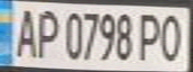0: (60, 7, 84, 61)
7: (78, 8, 100, 61)
8: (115, 10, 139, 62)
9: (97, 9, 118, 62)
A: (9, 3, 39, 59)
O: (157, 10, 187, 63)
P: (136, 9, 166, 62), (33, 6, 60, 60)
